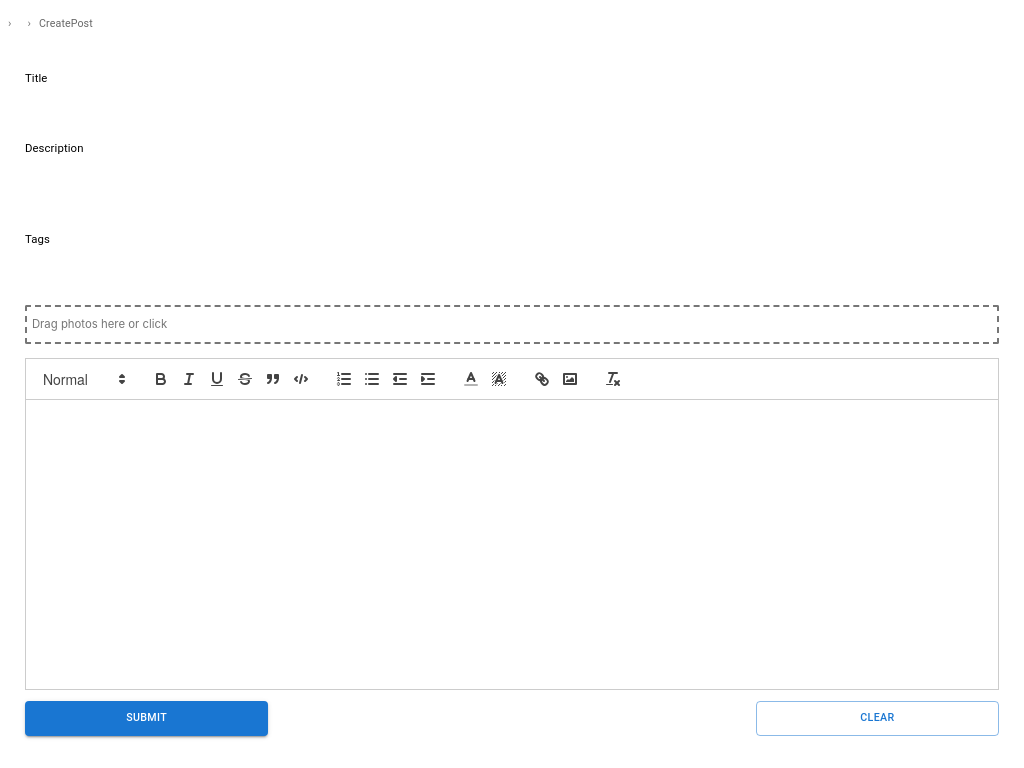
Test: AddPost Component › should display errors without data
This screenshot has width=1024, height=768.
(page scrolled)
Submit the form
Click the button "Submit". click: (147, 719)
box: [25, 701, 268, 736]
(page scrolled)
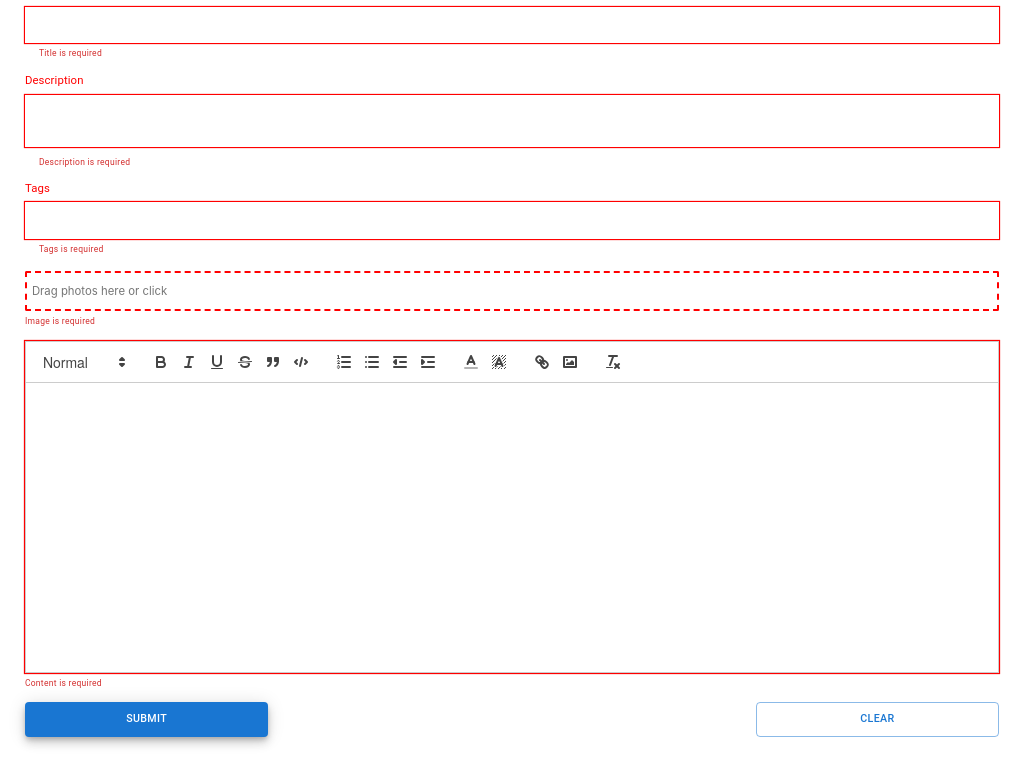
expect the text "Title is required" is shown: met, box [39, 48, 102, 58]
expect the text "Description is required" is shown: met, box [39, 157, 130, 167]
expect the text "Tags is required" is shown: met, box [39, 244, 104, 254]
